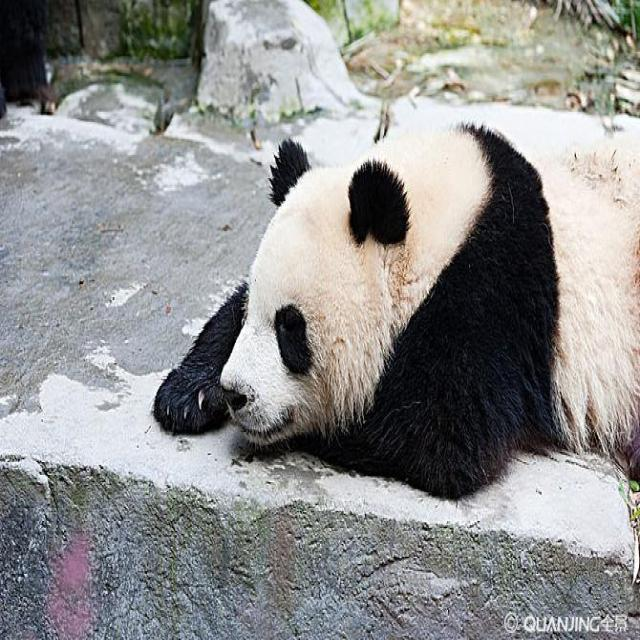panda: (155, 116, 640, 445)
